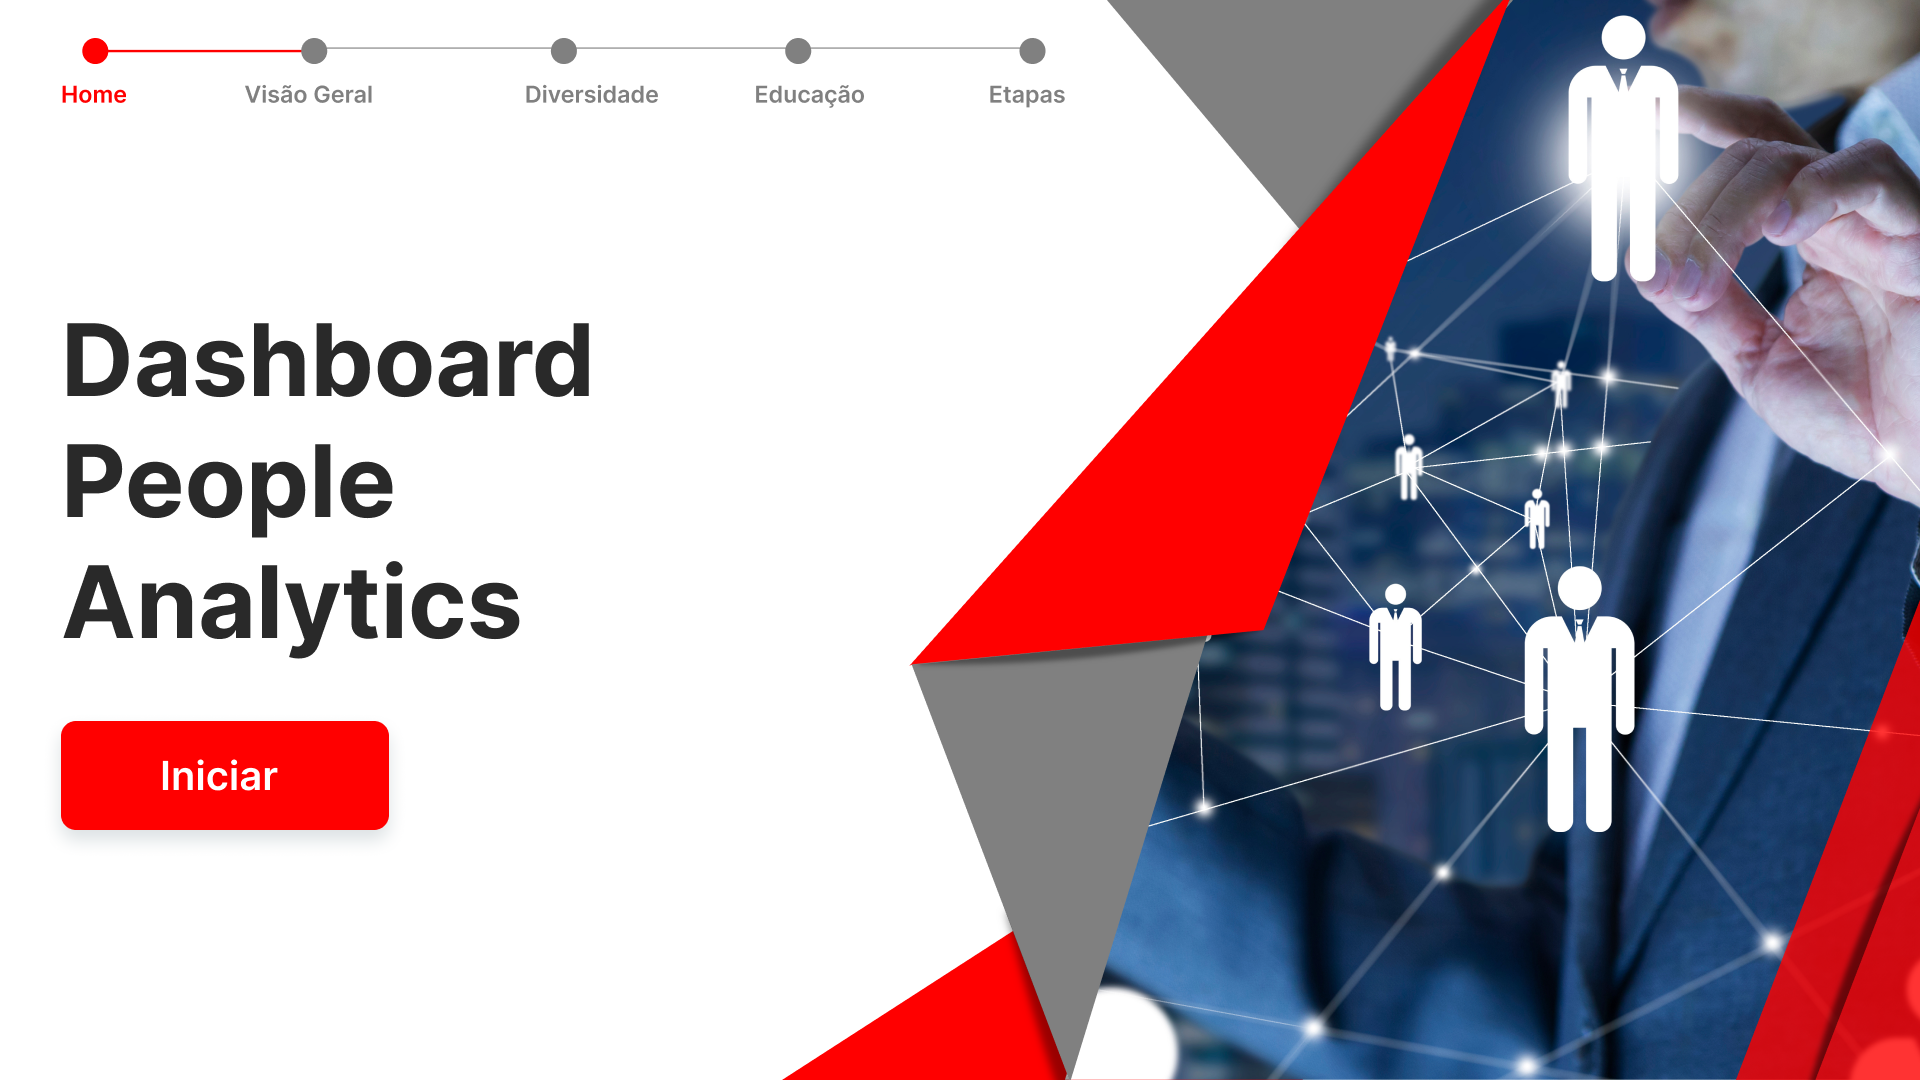

Layout of this report page (visuals, bound fields, positions):
{"tool":"powerbi","page":{"name":"Home","canvas":[1280,720],"ordinal":0},"visuals":[{"type":"shape","box":[40,472.5,222.5,98.8],"z":2000},{"type":"shape","box":[125,10,147.5,86.2],"z":3000},{"type":"shape","box":[310,10,147.5,86.2],"z":4000},{"type":"shape","box":[476.2,10,147.5,86.2],"z":5000},{"type":"shape","box":[640,10,130,86.2],"z":6000}]}

Visuals, with their boxes in screenshot pixels (x1, y1, x2, y2), scaled from the page's 1280x720 canvas onto the 1920x1080 screenshot:
shape: l=60, t=709, r=394, b=857
shape: l=188, t=15, r=409, b=144
shape: l=465, t=15, r=686, b=144
shape: l=714, t=15, r=936, b=144
shape: l=960, t=15, r=1155, b=144
